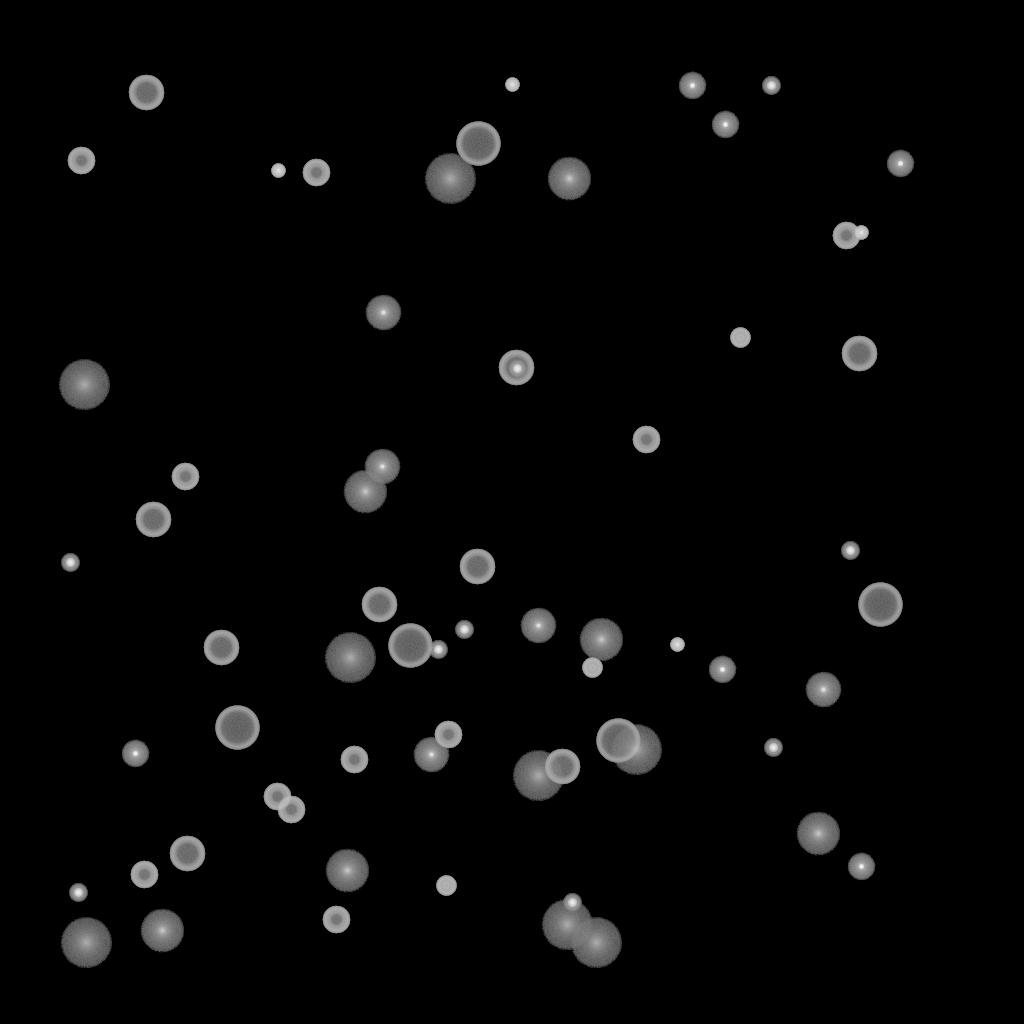depth:-10: (678, 72, 706, 100), (847, 853, 875, 881), (886, 150, 914, 178), (708, 656, 736, 684), (711, 111, 739, 139), (121, 740, 149, 768)
depth:-20: (508, 360, 526, 378), (764, 739, 782, 757), (563, 894, 581, 912), (455, 621, 473, 639), (69, 884, 87, 902), (841, 542, 859, 560), (429, 641, 447, 659), (762, 77, 780, 95), (61, 554, 79, 572)
depth:-30: (271, 164, 285, 178), (670, 638, 684, 652), (854, 226, 868, 240), (505, 78, 519, 92)
depth:-40: (436, 876, 456, 896), (730, 328, 750, 348), (582, 658, 602, 678)
depth:-50: (832, 222, 860, 250), (171, 463, 199, 491), (67, 147, 95, 175), (434, 721, 462, 749), (302, 159, 330, 187), (632, 426, 660, 454), (322, 906, 350, 934), (263, 783, 291, 811), (130, 861, 158, 889), (340, 746, 368, 774), (277, 796, 305, 824)
depth:-60: (203, 630, 239, 666), (498, 350, 534, 386), (841, 336, 877, 372), (459, 549, 495, 585), (361, 587, 397, 623), (135, 502, 171, 538), (169, 836, 205, 872), (128, 75, 164, 111), (544, 749, 580, 785)
depth:-70: (858, 583, 902, 627), (388, 624, 432, 668), (456, 122, 500, 166), (596, 719, 640, 763), (215, 706, 259, 750)
depth:0: (365, 295, 401, 331), (413, 737, 449, 773), (520, 608, 556, 644), (805, 672, 841, 708), (364, 449, 400, 485)
depth:10: (547, 157, 591, 201), (579, 618, 623, 662), (140, 909, 184, 953), (325, 849, 369, 893), (796, 812, 840, 856), (343, 470, 387, 514)
depth:20: (541, 900, 593, 950), (512, 751, 564, 801), (60, 918, 112, 968), (610, 725, 662, 775), (424, 154, 476, 204), (570, 918, 622, 968), (324, 633, 376, 683), (58, 360, 110, 410)
